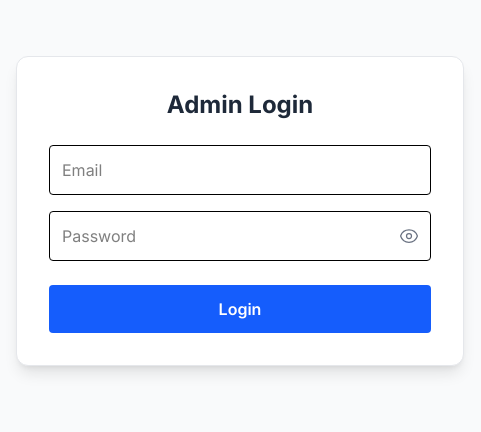
Test: LoginPage › rejects unauthorized emails
Step 1. Type "unauthorized@example.com" into the field with placeholder "Email" → (240, 170), box x1=49 y1=145 x2=431 y2=195
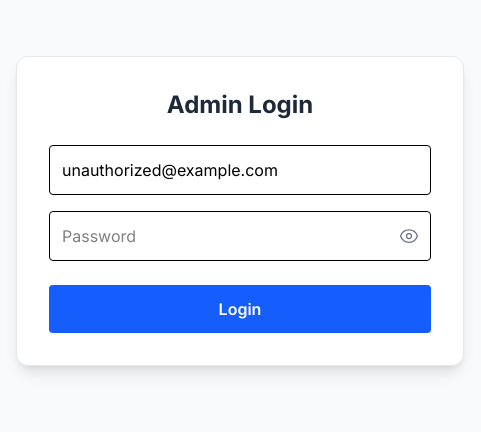
Step 2. Type "Rx Delivery Logistics123" into the password field with placeholder "Password" → (240, 236), box x1=49 y1=211 x2=431 y2=261
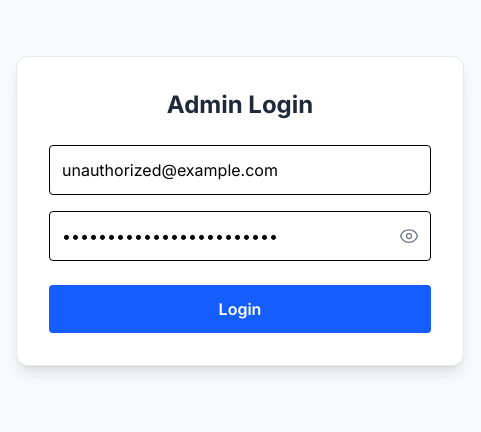
Step 3. Click the button "Login" → (240, 309), box x1=49 y1=285 x2=431 y2=333
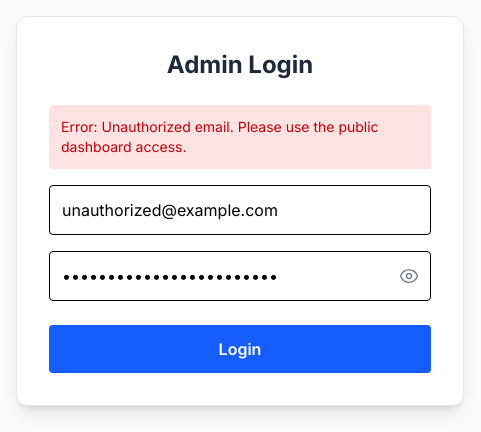
Now the text "Error: Unauthorized email. Please use the public dashboard access." is shown, box x1=49 y1=105 x2=431 y2=169
